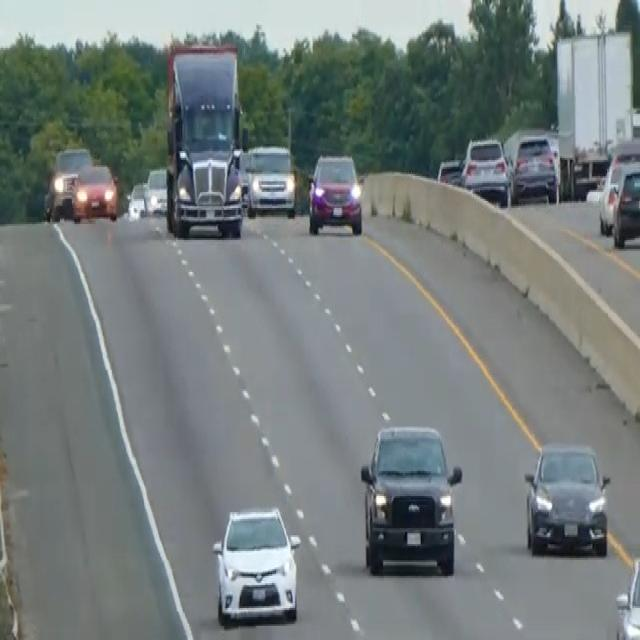car: (211, 503, 301, 626), (522, 438, 611, 556), (307, 151, 363, 235), (245, 142, 296, 219), (460, 134, 512, 206), (46, 144, 91, 219), (511, 132, 558, 202), (599, 149, 638, 231), (72, 160, 118, 222), (611, 164, 639, 247), (613, 553, 639, 638), (144, 165, 168, 215), (125, 180, 147, 220), (436, 155, 463, 185)
jeep: (358, 420, 463, 576)
lorry: (163, 37, 247, 240)
